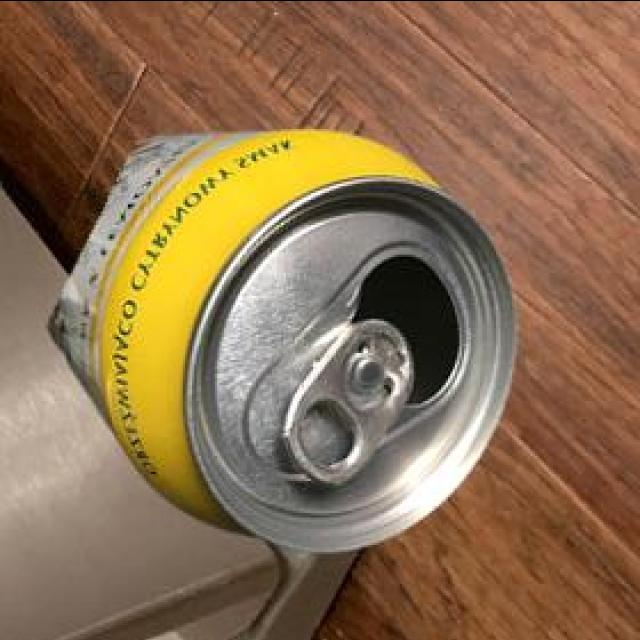logam: (45, 125, 513, 547)
